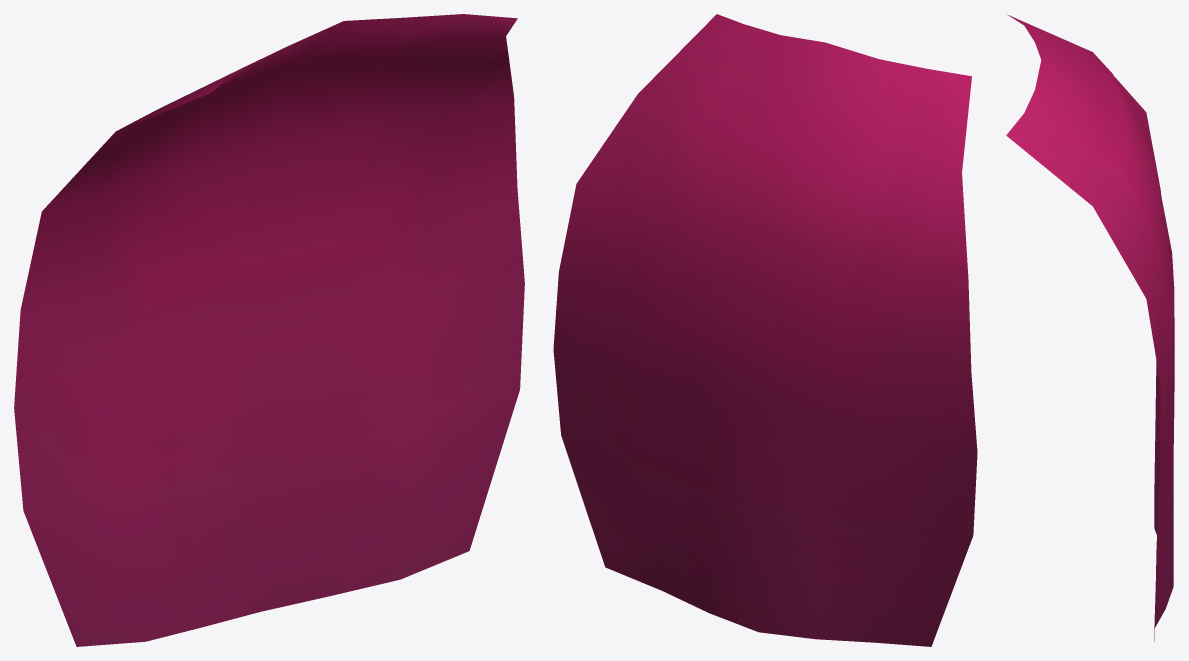
File: Mage_Cape.glb
The picture shows the model from 3 angles, left to right: view 1: azimuth 30°, elevation 25°; view 2: azimuth 150°, elevation 25°; view 3: azimuth 270°, elevation 25°; orthographic projection. The views are drawn at different scales.
Parts seen in each view (by area): view 1: Mage_Cape; view 2: Mage_Cape; view 3: Mage_Cape.
Part boxes in pixels (x1,y1,x2,y2): Mage_Cape: (14, 14, 524, 646); Mage_Cape: (553, 14, 977, 646); Mage_Cape: (1006, 14, 1174, 641).
Size of the model in its own units: 0.9707 by 1.18 by 0.3426.
Materials: 1 (1 with a texture image).
